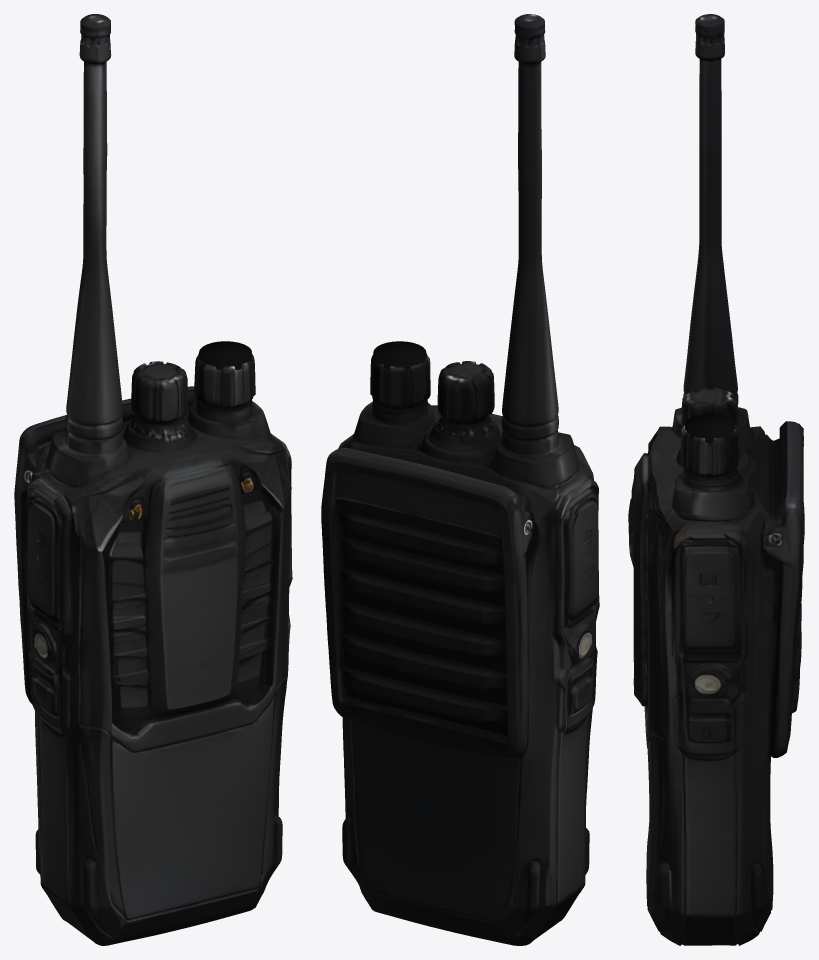
File: WalkieTalkie.fbx
The picture shows the model from 3 angles, left to right: view 1: azimuth 30°, elevation 25°; view 2: azimuth 150°, elevation 25°; view 3: azimuth 270°, elevation 25°; orthographic projection. The views are drawn at different scales.
Visible parts, largest first — view 1: model; view 2: model; view 3: model.
Boxes of the visible parts, <box> form: model: <box>14,14,292,945</box>; model: <box>321,14,599,945</box>; model: <box>628,14,804,945</box>.
Size of the model in its own units: 0.4745 by 1.71 by 0.3165.
Materials: 2 (1 with a texture image).
